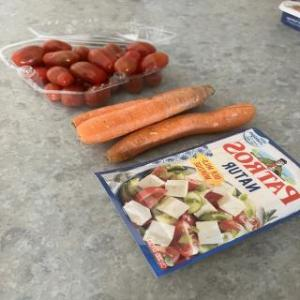carrot: (101, 102, 259, 166), (72, 83, 218, 147)
tomato: (11, 44, 46, 68), (112, 50, 142, 78), (138, 50, 169, 76), (70, 60, 106, 82), (87, 47, 118, 71), (44, 48, 80, 68), (124, 39, 158, 58), (46, 64, 74, 86), (42, 39, 74, 55)
